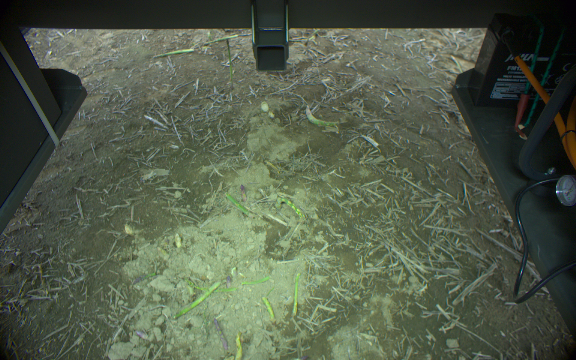aspa: (170, 277, 224, 317), (220, 190, 255, 223), (303, 105, 342, 130), (209, 314, 231, 356), (277, 197, 311, 224), (288, 271, 307, 319), (151, 46, 198, 62), (222, 37, 236, 90), (200, 32, 243, 46), (237, 274, 270, 289), (230, 328, 245, 360), (259, 295, 275, 322), (239, 181, 247, 202)
